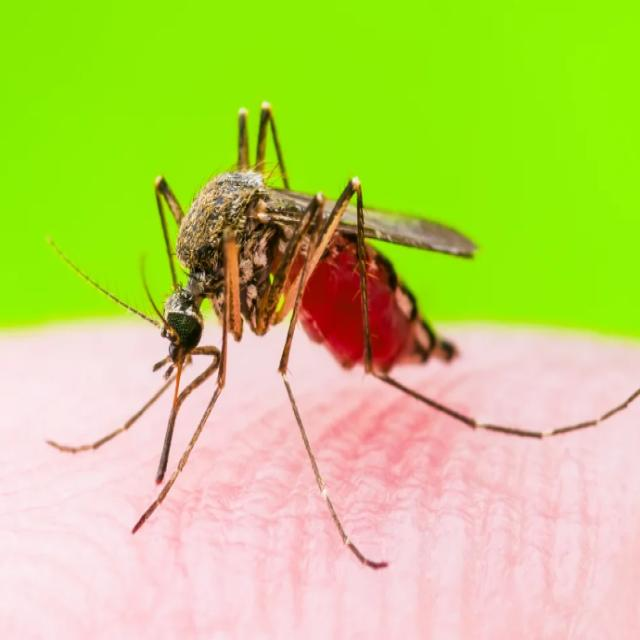Mosquito: (114, 71, 529, 582)
